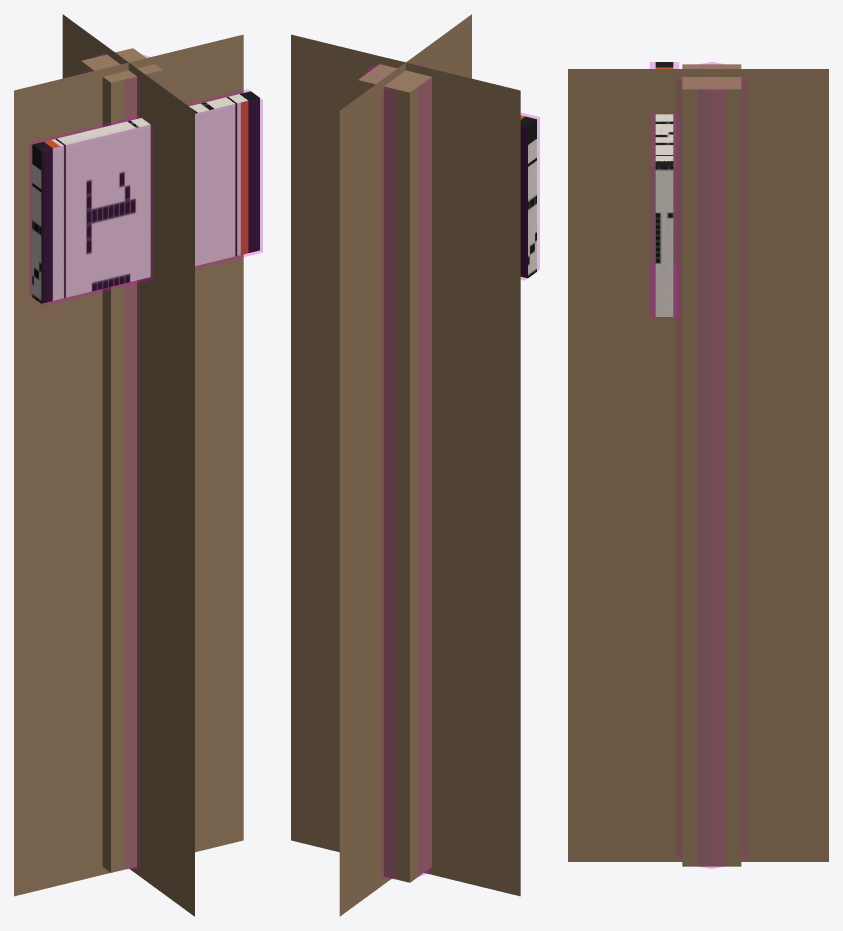
Rendered from milemarker_010.dae.
3 renders of one model, left to right at view 1: azimuth 30°, elevation 25°; view 2: azimuth 150°, elevation 25°; view 3: azimuth 270°, elevation 25°, orthographic.
Parts seen in each view (by area): view 1: milemarker_010_a50, milemarker_010_a800, Colmesh_sign-1, milemarker_010_a200, Colmesh_post-1; view 2: milemarker_010_a50, milemarker_010_a800, Colmesh_post-1, milemarker_010_a200, Colmesh_sign-1; view 3: milemarker_010_a50, milemarker_010_a800, Colmesh_post-1, Colmesh_sign-1.
Boxes of the visible parts, x1,y1,x2,y2 form: milemarker_010_a50: [14, 14, 243, 916]; milemarker_010_a800: [32, 48, 259, 872]; Colmesh_sign-1: [29, 89, 262, 305]; milemarker_010_a200: [102, 56, 159, 866]; Colmesh_post-1: [89, 53, 148, 869]; milemarker_010_a50: [291, 14, 520, 916]; milemarker_010_a800: [358, 58, 536, 882]; Colmesh_post-1: [366, 61, 431, 878]; milemarker_010_a200: [379, 66, 431, 879]; Colmesh_sign-1: [521, 113, 539, 280]; milemarker_010_a50: [568, 69, 828, 861]; milemarker_010_a800: [655, 62, 741, 866]; Colmesh_post-1: [677, 62, 746, 868]; Colmesh_sign-1: [650, 62, 678, 316].
Bounding box in the file's own units: 0.441 × 0.441 × 1.48.
Materials: 3 (1 with a texture image).
